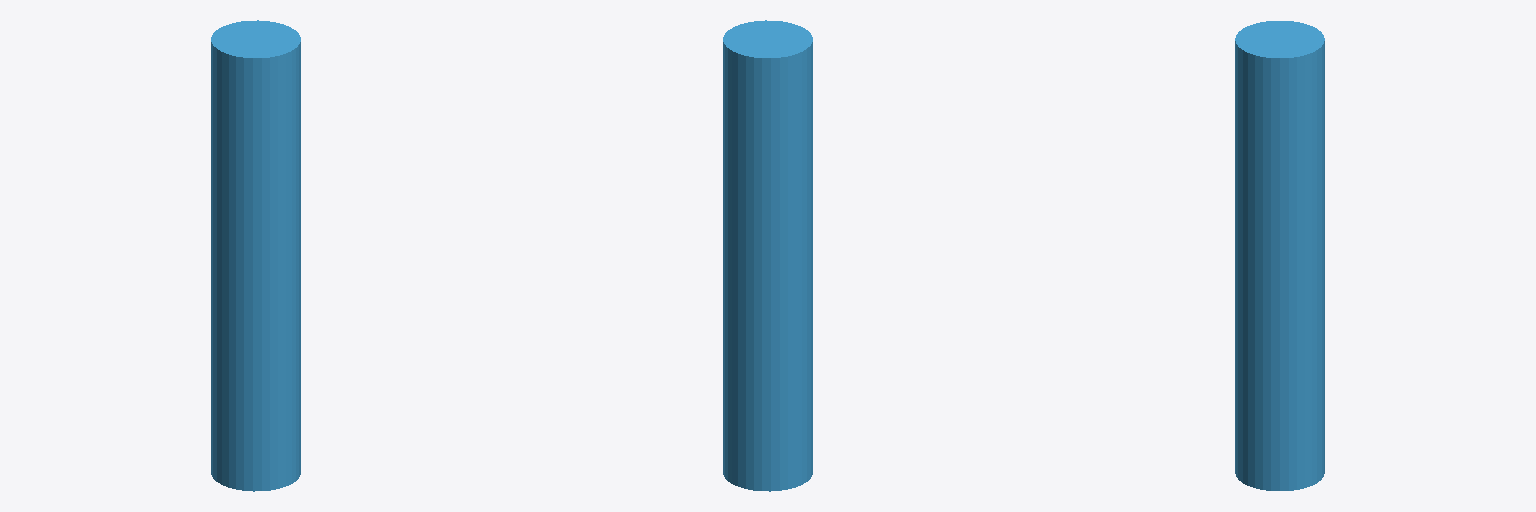
URDF robot description (cylinder_real.urdf):
<?xml version="0.0" ?>
<robot name="cylinder_real.urdf">
  <link name="headLink">
    <contact>
      <lateral_friction value="1.0"/>
      <rolling_friction value="0.0001"/>
      <inertia_scaling value="3.0"/>
    </contact>
    <inertial>
      <origin rpy="0 0 0" xyz="0 0 0"/>
       <mass value=".1"/>
       <inertia ixx="1" ixy="0" ixz="0" iyy="1" iyz="0" izz="1"/>
    </inertial>
    <visual>
      <origin rpy="0 0 0" xyz="0 0 0"/>
      <geometry>
        <mesh filename="head.obj" scale="0.001 0.001 0.001"/>
      </geometry>
      <material name="darkgrey">
        <color rgba="0.2 0.2 0.2 1"/>
      </material>
    </visual>
    <collision>
      <origin rpy="0 0 0" xyz="0 0 0"/>
      <geometry>
        <mesh filename="head.obj" scale="0.001 0.001 0.001"/>
      </geometry>
    </collision>
  </link>

  <joint name="tipJoint" type="fixed">
    <parent link="headLink"/>
    <child link="tipLink"/>
    <origin rpy="0.0 0.0 0.0" xyz="0.0 0.0 0.029"/>
    <axis xyz="0 0 1"/>
    <limit effort="150.0" lower="-6.28318530718" upper="6.28318530718" velocity="3.15"/>
    <dynamics damping="10.0" friction="0.0"/>
  </joint>

  <link name="tipLink">
    <contact>
      <lateral_friction value="1.0"/>
      <rolling_friction value="0.0001"/>
      <inertia_scaling value="3.0"/>
    </contact>
    <inertial>
      <origin rpy="0 0 0" xyz="0 0 0"/>
       <mass value=".1"/>
       <inertia ixx="1" ixy="0" ixz="0" iyy="1" iyz="0" izz="1"/>
    </inertial>
    <visual>
      <origin rpy="0 0 0" xyz="0 0 0"/>
      <geometry>
        <cylinder length="0.135" radius="0.0127"/>
      </geometry>
      <material name="blue">
        <color rgba="0.5, 0.5, 0.5 1"/>
      </material>
    </visual>
    <collision>
      <origin rpy="0 0 0" xyz="0 0 0"/>
      <geometry>
        <cylinder length="0.135" radius="0.0127"/>
      </geometry>
    </collision>
  </link>

  <!-- <link name="asdfLink">
    <contact>
      <lateral_friction value="1.0"/>
      <rolling_friction value="0.0001"/>
      <inertia_scaling value="3.0"/>
    </contact>
    <inertial>
      <origin rpy="0 0 0" xyz="0 0 0"/>
       <mass value=".1"/>
       <inertia ixx="1" ixy="0" ixz="0" iyy="1" iyz="0" izz="1"/>
    </inertial>
    <visual>
      <origin rpy="0 0 0" xyz="0 0 0"/>
      <geometry>
        <cylinder length="0.028" radius="0.001"/>
      </geometry>
    </visual>
  </link>

  <joint name="asdfoint" type="fixed">
    <parent link="tipLink"/>
    <child link="asdfLink"/>
    <origin rpy="0.0 0.0 0.0" xyz="0.0 0.0 0.0"/>
    <axis xyz="0 0 1"/>
    <limit effort="150.0" lower="-6.28318530718" upper="6.28318530718" velocity="3.15"/>
    <dynamics damping="10.0" friction="0.0"/>
  </joint> -->


</robot>


--- Facts derived from the render (not from the file) ---
3 views of the same robot in one strip: view 1: azimuth 30°, elevation 25°; view 2: azimuth 150°, elevation 25°; view 3: azimuth 270°, elevation 25° (orthographic).
Model cylinder_real.urdf with 2 links and 1 joints (1 fixed), rooted at headLink, posed every joint at zero.
Links seen in each view (by area): view 1: tipLink; view 2: tipLink; view 3: tipLink.
Boxes of the visible links, box(x1,y1,x2,y2) form: tipLink: box(211, 20, 300, 491); tipLink: box(723, 20, 812, 491); tipLink: box(1235, 21, 1324, 490).
Bounding box of the posed robot: 0.0254 × 0.0254 × 0.135 m (x, y, z).
Meshes: 1 distinct files referenced, 1 mesh visuals loaded (1 OBJ).